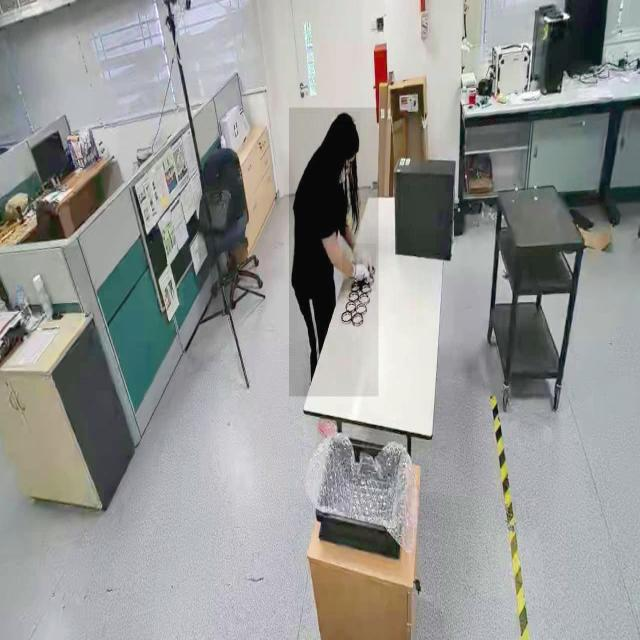hand_glove: (342, 244, 376, 292)
head_nohelmet: (334, 111, 360, 147)
person: (288, 108, 378, 398)
